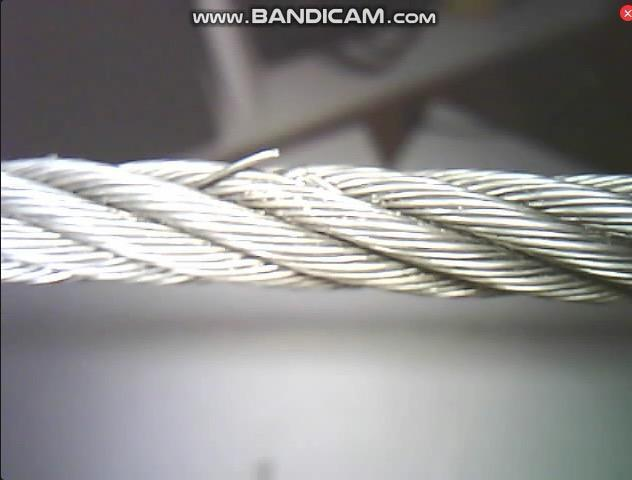break: (223, 143, 292, 189)
